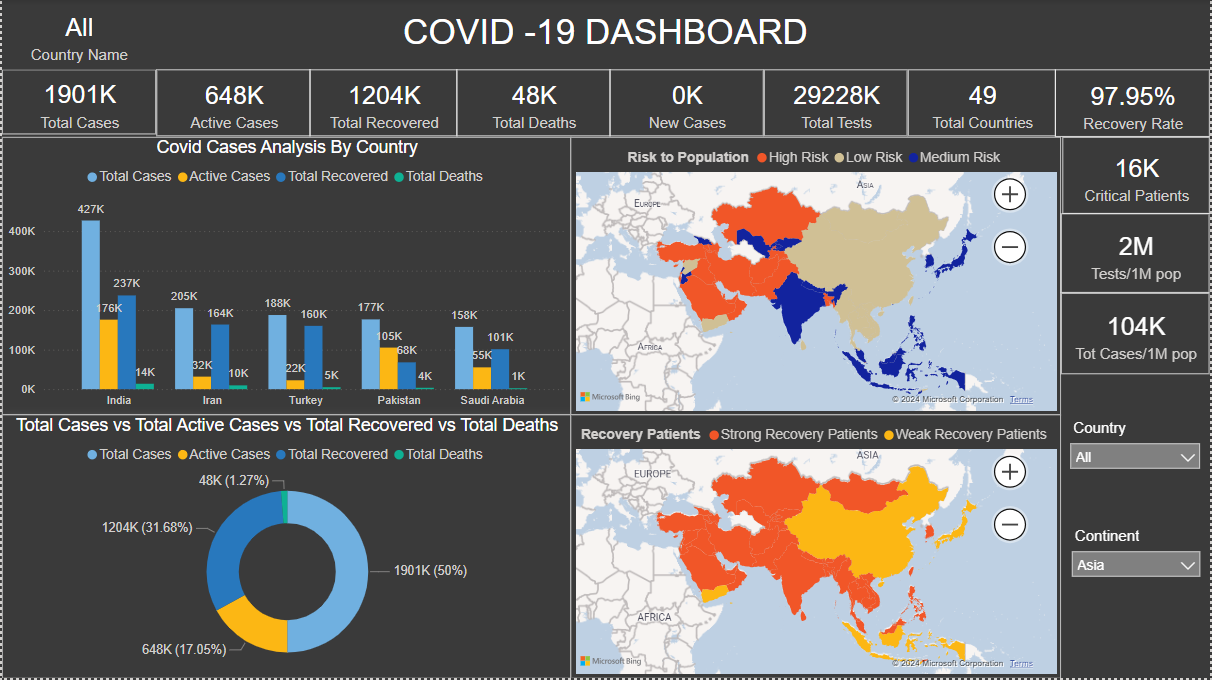

Layout of this report page (visuals, bound fields, positions):
{"tool":"powerbi","page":{"name":"Dashboard","canvas":[1280,720],"ordinal":0},"visuals":[{"type":"textbox","title":"COVID -19 DASHBOARD","box":[404.8,12.8,472,51.2],"z":0},{"type":"card","fields":{"Values":["Sum(Covid_data.TotalCases)"]},"box":[0,75.2,163.2,68.8],"z":1000},{"type":"card","fields":{"Values":["Sum(Covid_data.TotalRecovered)"]},"box":[326.4,75.2,156.8,70.4],"z":2000},{"type":"card","fields":{"Values":["Sum(Covid_data.Total Deaths)"]},"box":[481.6,75.2,163.2,70.4],"z":3000},{"type":"card","fields":{"Values":["Sum(Covid_data.ActiveCases)"]},"box":[163.2,75.2,163.2,70.4],"z":4000},{"type":"card","fields":{"Values":["Sum(Covid_data.New Cases)"]},"box":[644.8,75.2,163.2,70.4],"z":5000},{"type":"card","fields":{"Values":["Sum(Covid_data.Total Tests)"]},"box":[808,75.2,152,70.4],"z":6000},{"type":"card","fields":{"Values":["Count(Covid_data.Country)"]},"box":[960,75.2,156.8,70.4],"z":7000},{"type":"card","fields":{"Values":["Avg(Covid_data.PopulationImmunity)"]},"box":[1116.6,74.8,163.8,71.6],"z":8000},{"type":"clusteredColumnChart","title":"Covid Cases Analysis By Country","fields":{"Category":["Covid_data.Country"],"Y":["Sum(Covid_data.Total Cases)","Sum(Covid_data.Active Cases)","Sum(Covid_data.Total Recovered)","Sum(Covid_data.Total Deaths)"]},"box":[0,145.6,603.2,294.4],"z":9000},{"type":"donutChart","title":"Total Cases vs Total Active Cases vs Total Recovered vs Total Deaths","fields":{"Y":["Sum(Covid_data.Total Cases)","Sum(Covid_data.Active Cases)","Sum(Covid_data.Total Recovered)","Sum(Covid_data.Total Deaths)"]},"box":[0,440,603.2,280],"z":11000},{"type":"filledMap","fields":{"Category":["Covid_data.Country"],"Series":["Covid_data.RisktoPopulation"]},"box":[603.2,145.6,520,294.4],"z":12000},{"type":"filledMap","fields":{"Category":["Covid_data.Country"],"Series":["Covid_data.RecoveryPatients"]},"box":[603.2,440,520,280],"z":13000},{"type":"slicer","fields":{"Values":["Covid_data.Country"]},"box":[1123,440.6,157.5,100.2],"z":14000},{"type":"card","fields":{"Values":["Sum(Covid_data.Critical Patients)"]},"box":[1124.6,146.3,155.9,81.1],"z":15000},{"type":"card","fields":{"Values":["Sum(Covid_data.Tests/1M pop)"]},"box":[1123,227.5,157.5,84.3],"z":16000},{"type":"card","fields":{"Values":["Sum(Covid_data.Tot Cases/1M pop)"]},"box":[1123,311.8,157.5,85.9],"z":17000},{"type":"slicer","fields":{"Values":["Covid_data.Continent"]},"box":[1124.6,555.1,155.9,90.7],"z":18000},{"type":"card","fields":{"Values":["Covid_data.Country Card"]},"box":[0,1.6,163.2,73.6],"z":19000}]}

Visuals, with their boxes in screenshot pixels (x1, y1, x2, y2), scaled from the page's 1280x720 canvas onto the 1212x680 screenshot:
"COVID -19 DASHBOARD" textbox: (383,12,830,60)
card - Sum(Covid_data.TotalCases): (0,71,155,136)
card - Sum(Covid_data.TotalRecovered): (309,71,458,138)
card - Sum(Covid_data.Total Deaths): (456,71,611,138)
card - Sum(Covid_data.ActiveCases): (155,71,309,138)
card - Sum(Covid_data.New Cases): (611,71,765,138)
card - Sum(Covid_data.Total Tests): (765,71,909,138)
card - Count(Covid_data.Country): (909,71,1057,138)
card - Avg(Covid_data.PopulationImmunity): (1057,71,1211,138)
"Covid Cases Analysis By Country" clusteredColumnChart: (0,138,571,416)
"Total Cases vs Total Active Cases vs Total Recovered vs Total Deaths" donutChart: (0,416,571,679)
filledMap - Covid_data.Country x Covid_data.RisktoPopulation: (571,138,1064,416)
filledMap - Covid_data.Country x Covid_data.RecoveryPatients: (571,416,1064,679)
slicer - Covid_data.Country: (1063,416,1211,511)
card - Sum(Covid_data.Critical Patients): (1065,138,1211,215)
card - Sum(Covid_data.Tests/1M pop): (1063,215,1211,294)
card - Sum(Covid_data.Tot Cases/1M pop): (1063,294,1211,376)
slicer - Covid_data.Continent: (1065,524,1211,610)
card - Covid_data.Country Card: (0,2,155,71)
